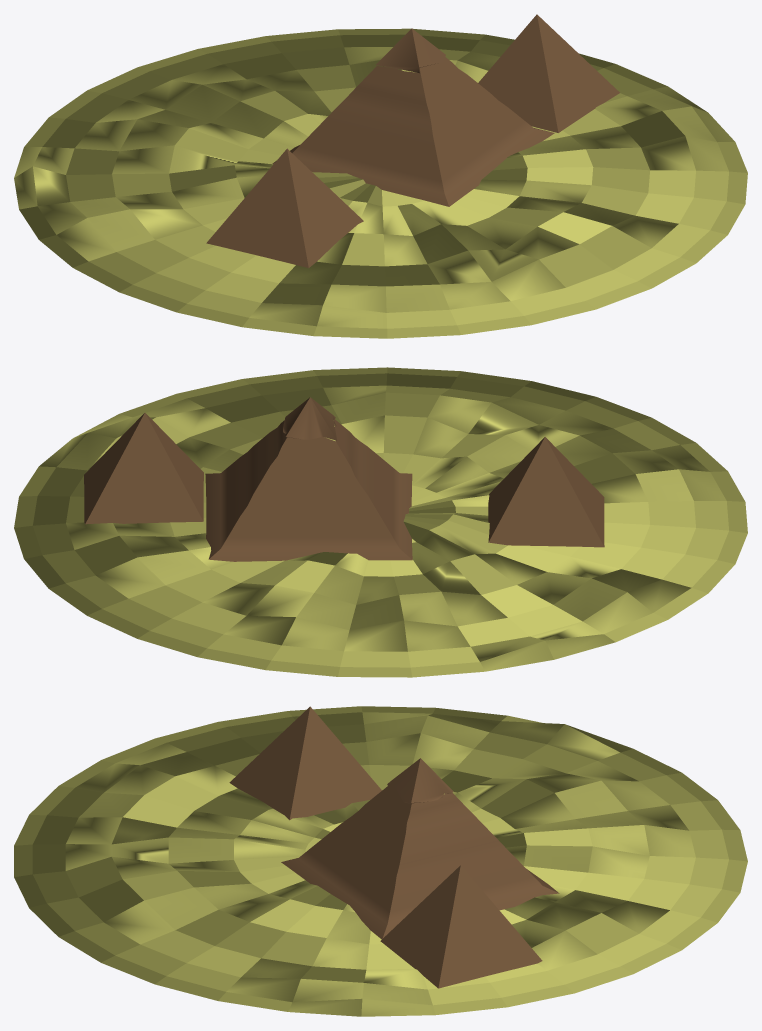
3 views of the same model, one above another, from view 1: azimuth 30°, elevation 25°; view 2: azimuth 150°, elevation 25°; view 3: azimuth 270°, elevation 25° (orthographic).
Visible parts, largest first — view 1: Sphere001, Pyramid001, Pyramid003, Pyramid002; view 2: Sphere001, Pyramid001, Pyramid002, Pyramid003; view 3: Sphere001, Pyramid001, Pyramid002, Pyramid003.
Part boxes in pixels (x1,y1,x2,y2): Sphere001: (14, 28, 747, 338); Pyramid001: (272, 28, 554, 206); Pyramid003: (206, 148, 363, 267); Pyramid002: (478, 14, 619, 132); Sphere001: (14, 367, 747, 677); Pyramid001: (205, 397, 412, 561); Pyramid002: (84, 413, 203, 524); Pyramid003: (488, 437, 604, 547); Sphere001: (14, 706, 747, 1016); Pyramid001: (281, 758, 559, 939); Pyramid002: (380, 865, 542, 988); Pyramid003: (229, 706, 381, 820).
Bounding box in the file's own units: 354 × 69.1 × 354.
